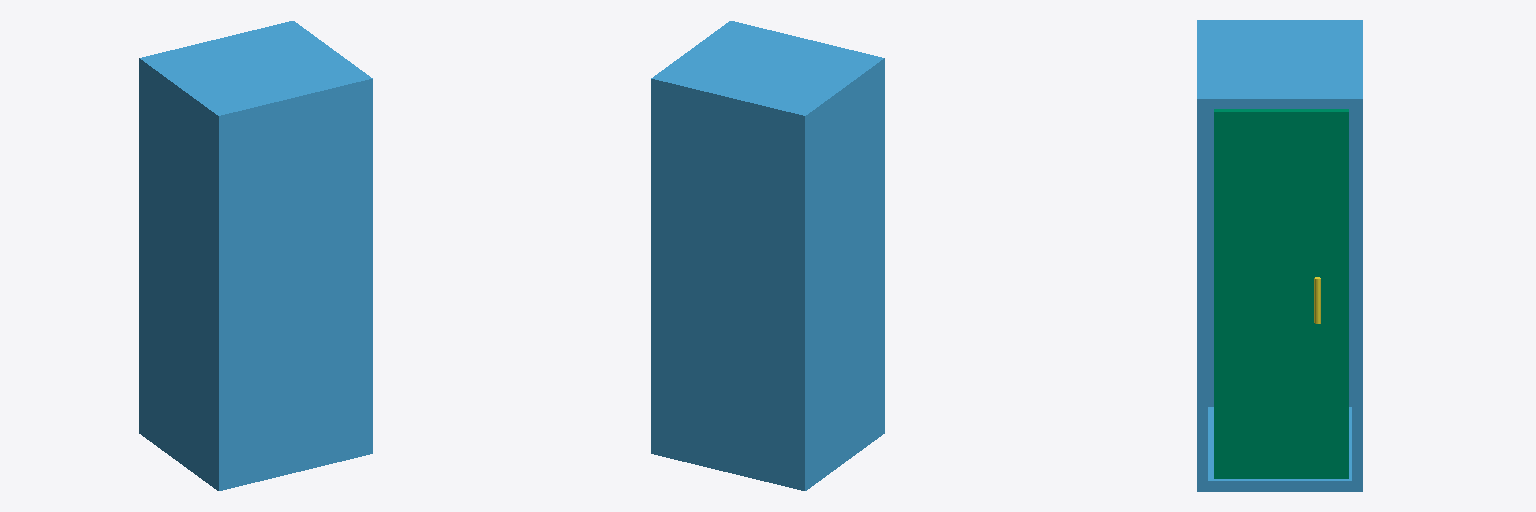
robot.urdf — my_cabinet:
<?xml version="1.0" ?>
<robot name="my_cabinet">
	<link name="world"/>
	<joint name="virtual_joint" type="fixed">
		<parent link="world"/>
		<child link="base_cabinet_link"/>
		<origin xyz="0.0 0.0 0.0" rpy="0.0 0.0 0.0"/>
	</joint>
	<link name="base_cabinet_link">
		<visual>
			<origin xyz="0.0 -0.0025 -0.3398553296684643" rpy="0.0 0.0 0.0"/>
			<geometry>
				<box size="0.3 0.2671419412445606 0.018"/>
			</geometry>
		</visual>
		<collision name="base_cabinet_link_collision_0">
			<origin xyz="0.0 -0.0025 -0.3398553296684643" rpy="0.0 0.0 0.0"/>
			<geometry>
				<box size="0.3 0.2671419412445606 0.018"/>
			</geometry>
		</collision>
		<visual>
			<origin xyz="0.0 0.12207097062228031 0.0" rpy="0.0 0.0 0.0"/>
			<geometry>
				<box size="0.3 0.018 0.6977106593369287"/>
			</geometry>
		</visual>
		<collision name="base_cabinet_link_collision_1">
			<origin xyz="0.0 0.12207097062228031 0.0" rpy="0.0 0.0 0.0"/>
			<geometry>
				<box size="0.3 0.018 0.6977106593369287"/>
			</geometry>
		</collision>
		<visual>
			<origin xyz="0.0 -0.12707097062228032 0.0" rpy="0.0 0.0 0.0"/>
			<geometry>
				<box size="0.3 0.018 0.6977106593369287"/>
			</geometry>
		</visual>
		<collision name="base_cabinet_link_collision_2">
			<origin xyz="0.0 -0.12707097062228032 0.0" rpy="0.0 0.0 0.0"/>
			<geometry>
				<box size="0.3 0.018 0.6977106593369287"/>
			</geometry>
		</collision>
		<visual>
			<origin xyz="0.0 -0.0025 0.3398553296684643" rpy="0.0 0.0 0.0"/>
			<geometry>
				<box size="0.3 0.26714194124456064 0.018"/>
			</geometry>
		</visual>
		<collision name="base_cabinet_link_collision_3">
			<origin xyz="0.0 -0.0025 0.3398553296684643" rpy="0.0 0.0 0.0"/>
			<geometry>
				<box size="0.3 0.26714194124456064 0.018"/>
			</geometry>
		</collision>
		<visual>
			<origin xyz="-0.141 -0.0025 0.0" rpy="0.0 0.0 0.0"/>
			<geometry>
				<box size="0.018 0.26714194124456064 0.6977106593369287"/>
			</geometry>
		</visual>
		<collision name="base_cabinet_link_collision_4">
			<origin xyz="-0.141 -0.0025 0.0" rpy="0.0 0.0 0.0"/>
			<geometry>
				<box size="0.018 0.26714194124456064 0.6977106593369287"/>
			</geometry>
		</collision>
		<inertial>
			<mass value="0.200000"/>
			<inertia ixx="0.009303" ixy="0.0" ixz="0.0" iyy="0.009613" iyz="0.0" izz="0.002689"/>
		</inertial>
	</link>
	<link name="door_link">
		<visual>
			<origin xyz="0.0 -0.10807097062228031 0.0"/>
			<geometry>
				<box size="0.018 0.21614194124456063 0.6517106593369286"/>
			</geometry>
		</visual>
		<collision name="door_link_collision">
			<origin xyz="0.0 -0.10807097062228031 0.0"/>
			<geometry>
				<box size="0.018 0.21614194124456063 0.6517106593369286"/>
			</geometry>
		</collision>
		<inertial>
			<mass value="0.200000"/>
			<inertia ixx="0.007857" ixy="0.0" ixz="0.0" iyy="0.007084" iyz="0.0" izz="0.000784"/>
		</inertial>
	</link>
	<joint name="door_joint" type="revolute">
		<origin xyz="0.141 -0.10807097062228031 0.0" rpy="0.000000 -0.000000 3.141593"/>
		<axis xyz="0 0 1"/>
		<parent link="base_cabinet_link"/>
		<child link="door_link"/>
		<limit effort="50" lower="-1.658062789394613" upper="0" velocity="10"/>
		<dynamics friction="3.5" damping="3.5"/>
	</joint>
	<link name="handle_link">
		<visual>
			<origin xyz="0.0 0.0 0.0" rpy="0.0 0.0 0.0"/>
			<geometry>
				<cylinder length="0.08" radius="0.005"/>
			</geometry>
		</visual>
		<collision name="handle_link_collision_0">
			<origin xyz="0.0 0.0 0.0" rpy="0.0 0.0 0.0"/>
			<geometry>
				<cylinder length="0.08" radius="0.005"/>
			</geometry>
		</collision>
		<visual>
			<origin xyz="-0.01 0.0 0.02" rpy="0.0 1.5707963267948966 0.0"/>
			<geometry>
				<cylinder length="0.02" radius="0.003"/>
			</geometry>
		</visual>
		<collision name="handle_link_collision_1">
			<origin xyz="-0.01 0.0 0.02" rpy="0.0 1.5707963267948966 0.0"/>
			<geometry>
				<cylinder length="0.01" radius="0.003"/>
			</geometry>
		</collision>
		<visual>
			<origin xyz="-0.01 0.0 -0.02" rpy="0.0 1.5707963267948966 0.0"/>
			<geometry>
				<cylinder length="0.02" radius="0.003"/>
			</geometry>
		</visual>
		<collision name="handle_link_collision_2">
			<origin xyz="-0.01 0.0 -0.02" rpy="0.0 1.5707963267948966 0.0"/>
			<geometry>
				<cylinder length="0.02" radius="0.003"/>
			</geometry>
		</collision>
		<inertial>
			<mass value="0.050000"/>
			<inertia ixx="0.000027" ixy="0.0" ixz="0.0" iyy="0.000029" iyz="0.0" izz="0.000003"/>
		</inertial>
	</link>
	<joint name="handle_joint" type="fixed">
		<origin xyz="-0.028999999999999998 -0.1661419412445606 0.0" rpy="0.000000 -0.000000 3.141593"/>
		<parent link="door_link"/>
		<child link="handle_link"/>
	</joint>
	<gazebo reference="base_cabinet_link">
		<sensor name="main_sensor" type="contact">
			<selfCollide>true</selfCollide>
			<alwaysOn>true</alwaysOn>
			<updateRate>5.0</updateRate>
			<material>Gazebo/Red</material>
			<contact>
				<collision>base_cabinet_link_collision_0_collision</collision>
				<collision>base_cabinet_link_collision_1_collision</collision>
				<collision>base_cabinet_link_collision_2_collision</collision>
				<collision>base_cabinet_link_collision_3_collision</collision>
				<collision>base_cabinet_link_collision_4_collision</collision>
			</contact>
			<plugin name="gazebo_ros_bumper_controller" filename="libgazebo_ros_bumper.so">
				<bumperTopicName>/contact</bumperTopicName>
				<frameName>world</frameName>
			</plugin>
		</sensor>
	</gazebo>
	<gazebo reference="door_link">
		<sensor name="main_sensor" type="contact">
			<selfCollide>true</selfCollide>
			<alwaysOn>true</alwaysOn>
			<updateRate>5.0</updateRate>
			<material>Gazebo/Red</material>
			<contact>
				<collision>door_link_collision_collision</collision>
			</contact>
			<plugin name="gazebo_ros_bumper_controller" filename="libgazebo_ros_bumper.so">
				<bumperTopicName>/contact_door</bumperTopicName>
				<frameName>contact_door</frameName>
			</plugin>
		</sensor>
	</gazebo>
	<gazebo reference="door_link">
		<mu>3.0</mu>
		<mu2>3.0</mu2>
		<kp>10000000</kp>
		<kd>100</kd>
	</gazebo>
</robot>

--- Facts derived from the render (not from the file) ---
3 views of the same robot in one strip: view 1: azimuth 30°, elevation 25°; view 2: azimuth 150°, elevation 25°; view 3: azimuth 270°, elevation 25° (orthographic).
Robot: my_cabinet — 4 links, 3 joints (1 revolute, 2 fixed); root link world; default pose: all joints at 0.
Visible links, largest first — view 1: base_cabinet_link; view 2: base_cabinet_link; view 3: door_link, base_cabinet_link.
Boxes of the visible links, left/top/right/bottom form: base_cabinet_link: left=139, top=21, right=372, bottom=490; base_cabinet_link: left=651, top=21, right=884, bottom=490; door_link: left=1214, top=109, right=1348, bottom=478; base_cabinet_link: left=1197, top=20, right=1362, bottom=491.
Size in the robot's own frame: 0.325 by 0.2671 by 0.6977 metres.
Geometry: primitives only (box / cylinder / sphere), no mesh files.
